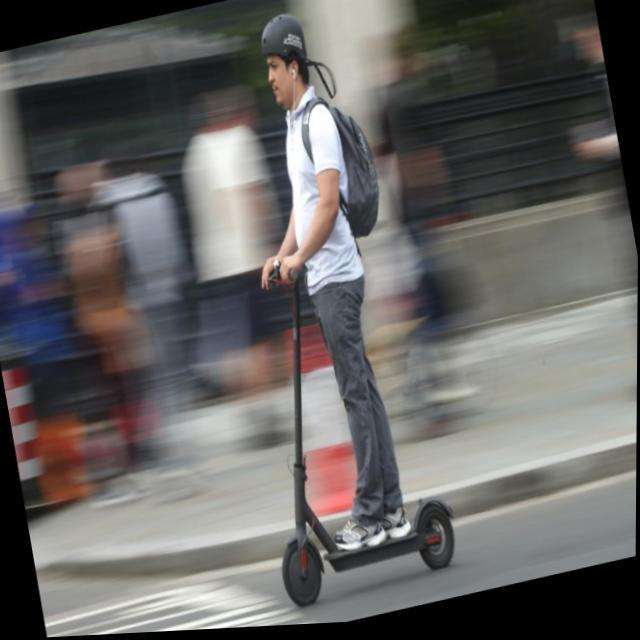Helmet: (251, 11, 322, 107)
